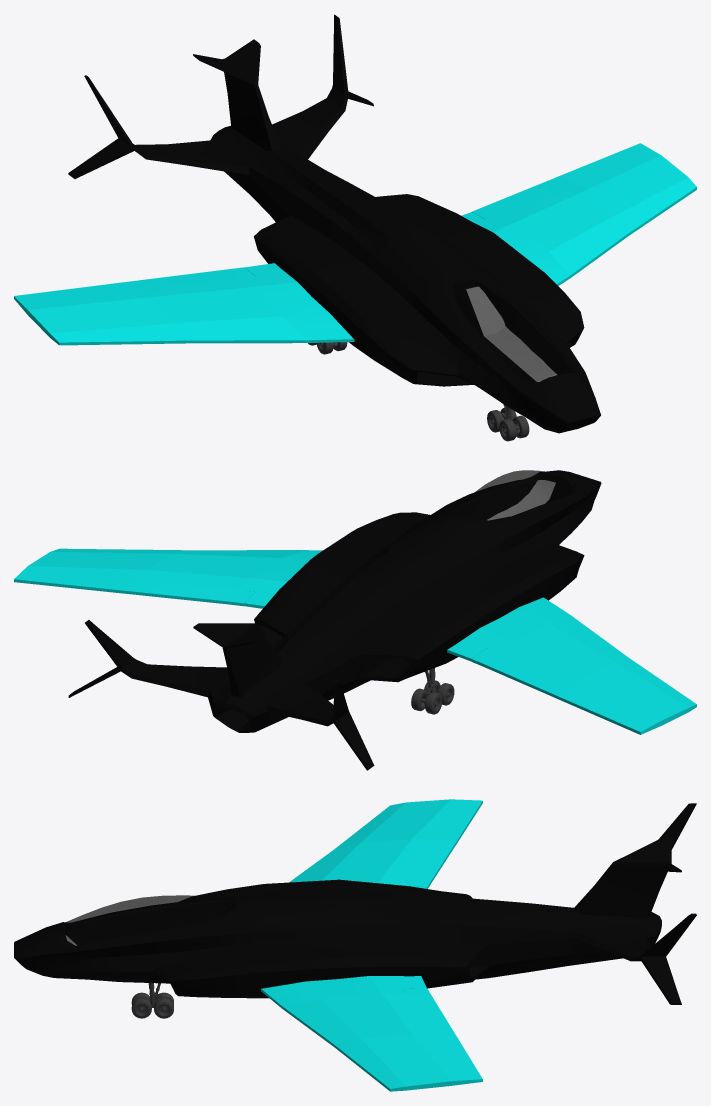
The model's file is Jet-2.fbx.
3 views of the same model, one above another, from view 1: azimuth 30°, elevation 25°; view 2: azimuth 150°, elevation 25°; view 3: azimuth 270°, elevation 25° (orthographic). The views are drawn at different scales.
Visible parts, largest first — view 1: polySurface10, polySurface9, pPlane3, pPlane2, pCylinder7; view 2: polySurface10, polySurface9, pPlane3, back_gear, pPlane2; view 3: polySurface10, polySurface9, pPlane3, pCylinder7.
Part boxes in pixels (x1=…): polySurface10: x1=68, y1=14, x2=600, y2=433; polySurface9: x1=14, y1=143, x2=696, y2=345; pPlane3: x1=452, y1=276, x2=575, y2=382; pPlane2: x1=465, y1=286, x2=556, y2=381; pCylinder7: x1=487, y1=404, x2=529, y2=441; polySurface10: x1=68, y1=470, x2=601, y2=770; polySurface9: x1=14, y1=548, x2=696, y2=734; pPlane3: x1=452, y1=470, x2=575, y2=520; back_gear: x1=411, y1=668, x2=454, y2=714; pPlane2: x1=487, y1=480, x2=555, y2=520; polySurface10: x1=14, y1=803, x2=696, y2=1004; polySurface9: x1=261, y1=799, x2=482, y2=1091; pPlane3: x1=63, y1=895, x2=236, y2=944; pCylinder7: x1=131, y1=983, x2=173, y2=1018.
Size of the model in its own units: 9.71 by 2.6 by 9.86.
